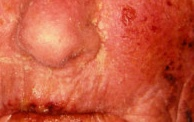SJS-TEN: (118, 0, 192, 115), (1, 89, 128, 122)
